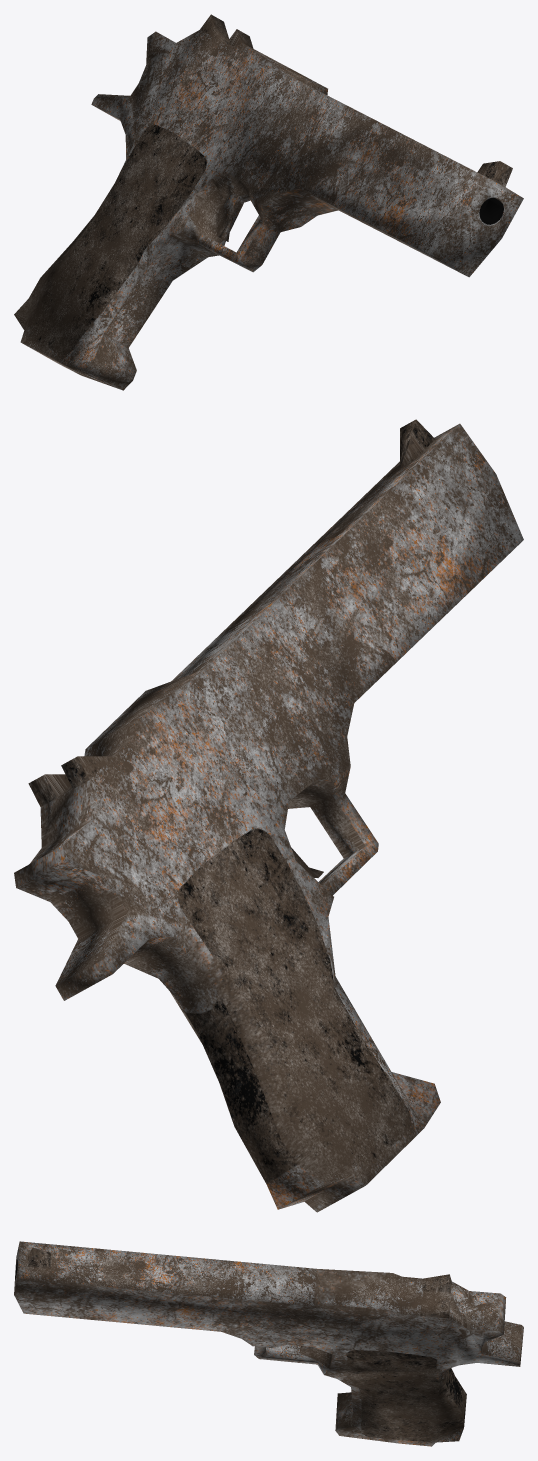
File: Anim_disparar_pistola_objetos.0022.obj
The picture shows the model from 3 angles, top to bottom: view 1: azimuth 30°, elevation 25°; view 2: azimuth 150°, elevation 25°; view 3: azimuth 270°, elevation 25°; orthographic projection. The views are drawn at different scales.
Parts seen in each view (by area): view 1: Pistola1; view 2: Pistola1; view 3: Pistola1.
Part boxes in pixels (<box>): Pistola1: <box>14,14,523,390</box>; Pistola1: <box>14,419,523,1212</box>; Pistola1: <box>14,1241,523,1446</box>.
Size of the model in its own units: 0.7061 by 0.9825 by 1.69.
